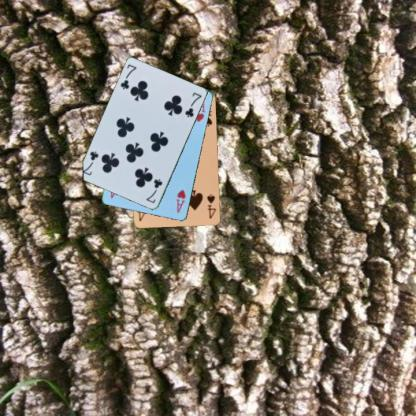4s: (205, 192, 217, 220)
7c: (118, 62, 138, 91), (144, 177, 164, 204)
Ah: (174, 188, 188, 214)
